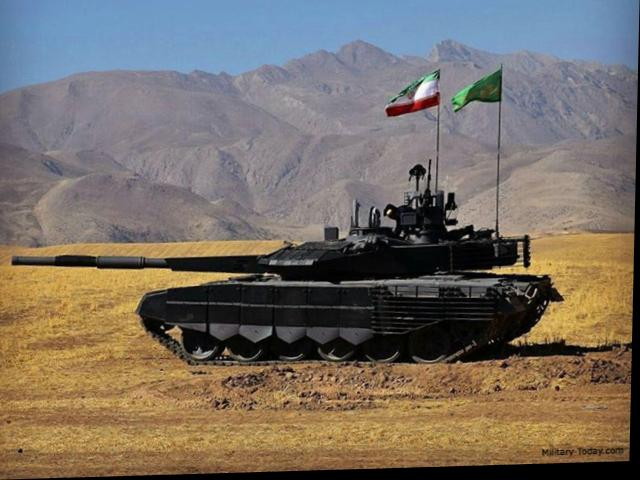tank: (149, 202, 581, 377)
